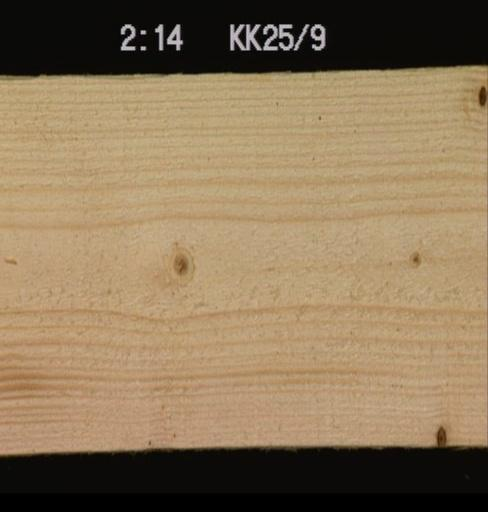dry_knot: (472, 78, 486, 107)
edge_knot: (432, 420, 447, 444)
small_knot: (405, 247, 423, 270)
sound_knot: (163, 243, 194, 281)
wave: (0, 72, 191, 82)
